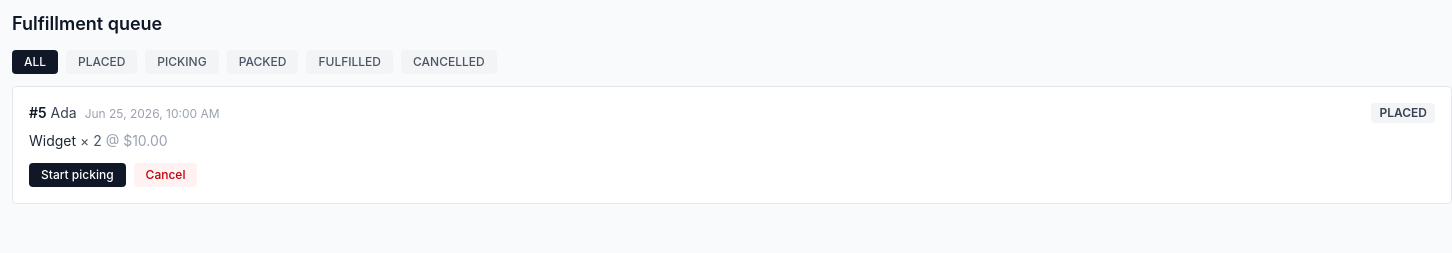
it: OrderQueue › AC-M4.3.6: surfaces an inline error when a transition fails
Expected: the text "Ada" is shown, left=50, top=104, right=77, bottom=121
What coordinates should you click on to do the following:
click the button "Start picking"
I would click on:
 (77, 175)
Its box is left=29, top=163, right=126, bottom=187.
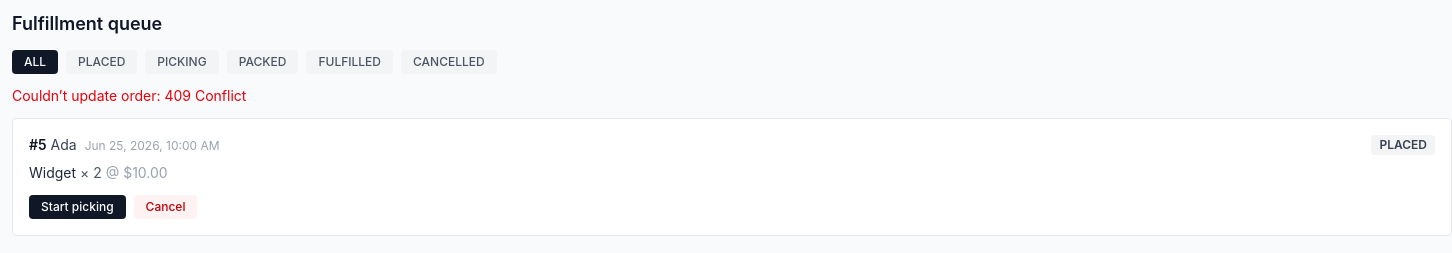
Expected: the text "Couldn’t update order: 409 Conflict" is shown, left=12, top=87, right=246, bottom=104
